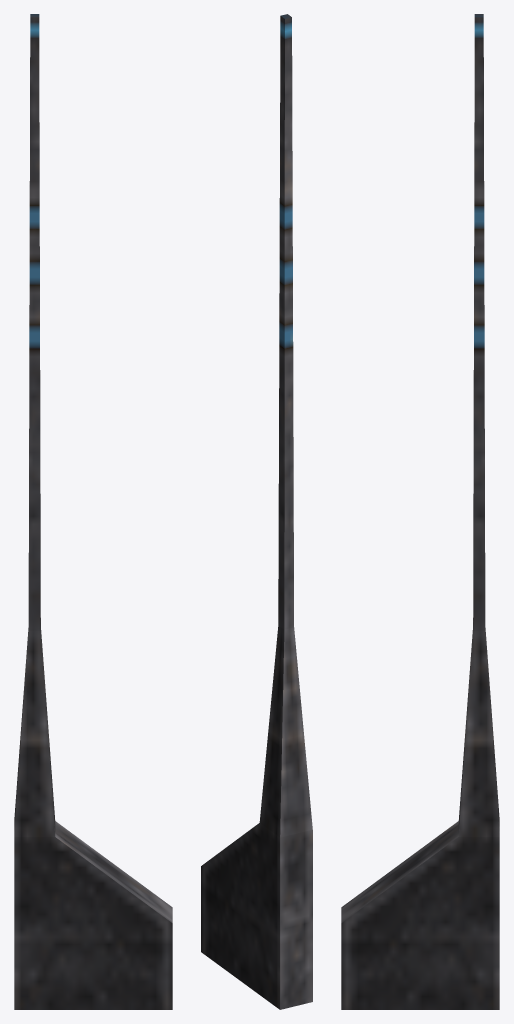
3 renders of one model, left to right at view 1: azimuth 90°, elevation 25°; view 2: azimuth 210°, elevation 25°; view 3: azimuth 270°, elevation 25°, orthographic.
Visible parts, largest first — view 1: a111; view 2: a111; view 3: a111.
Part boxes in pixels (<box>): a111: <box>14,14,172,1009</box>; a111: <box>201,14,312,1009</box>; a111: <box>341,14,499,1009</box>.
Size of the model in its own units: 21.86 by 627 by 91.3.
Materials: 1 (1 with a texture image).
